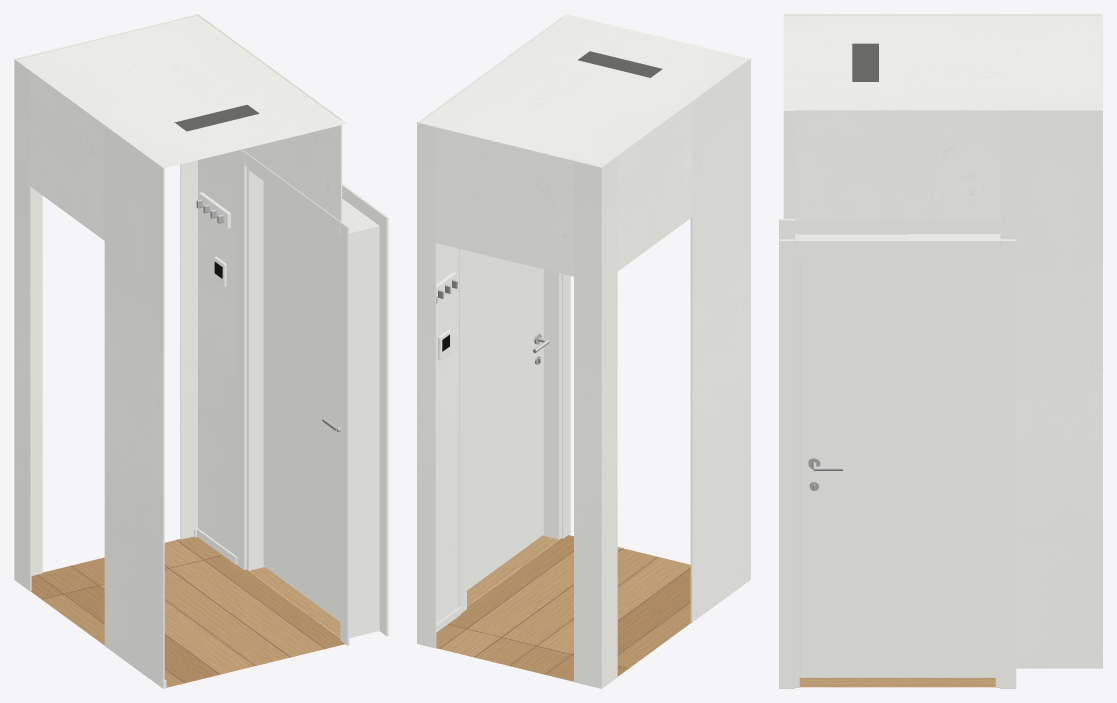
File: katia-disimpegno.glb
The picture shows the model from 3 angles, left to right: view 1: azimuth 30°, elevation 25°; view 2: azimuth 150°, elevation 25°; view 3: azimuth 270°, elevation 25°; orthographic projection. The views are drawn at different scales.
Visible parts, largest first — view 1: Porta ingresso, Disimpegno parete ovest, Disimpegno soffitto, Disimpegno pavimento, Disimpegno parete est fondo, Disimpegno parete ovest fondo, Disimpegno parete ovest porta, Disimpegno parete nord est, Disimpegno parete est porta, Disimpegno parete nord, Disimpegno soglia ingresso, Disimpegno bocchetta; view 2: Porta ingresso, Disimpegno parete ovest, Disimpegno soffitto, Disimpegno pavimento, Disimpegno parete nord porta, Disimpegno parete nord, Disimpegno parete nord est, Disimpegno parete ovest fondo, Disimpegno parete est fondo, Disimpegno parete ovest porta, Disimpegno soglia ingresso, Disimpegno bocchetta; view 3: Porta ingresso, Disimpegno parete est fondo, Disimpegno soffitto, Disimpegno parete est porta, Disimpegno soglia ingresso, Disimpegno parete ovest, Disimpegno bocchetta.
Part boxes in pixels (x1,y1,x2,y2): Porta ingresso: (237, 149, 388, 645); Disimpegno parete ovest: (104, 125, 164, 688); Disimpegno soffitto: (17, 15, 346, 167); Disimpegno pavimento: (30, 536, 344, 687); Disimpegno parete est fondo: (197, 14, 246, 569); Disimpegno parete ovest fondo: (14, 58, 31, 591); Disimpegno parete ovest porta: (30, 70, 105, 240); Disimpegno parete nord est: (180, 14, 197, 539); Disimpegno parete est porta: (245, 49, 342, 221); Disimpegno parete nord: (16, 52, 42, 575); Disimpegno soglia ingresso: (249, 567, 340, 637); Disimpegno bocchetta: (174, 104, 259, 131); Porta ingresso: (459, 248, 570, 613); Disimpegno parete ovest: (690, 58, 750, 622); Disimpegno soffitto: (420, 14, 748, 166); Disimpegno pavimento: (436, 535, 691, 681); Disimpegno parete nord porta: (435, 126, 574, 276); Disimpegno parete nord: (574, 160, 600, 688); Disimpegno parete nord est: (418, 122, 436, 648); Disimpegno parete ovest fondo: (600, 155, 617, 688); Disimpegno parete est fondo: (417, 87, 466, 644); Disimpegno parete ovest porta: (616, 101, 692, 271); Disimpegno soglia ingresso: (467, 535, 558, 606); Disimpegno bocchetta: (578, 51, 662, 77); Porta ingresso: (779, 219, 1016, 688); Disimpegno parete est fondo: (1000, 109, 1102, 668); Disimpegno soffitto: (783, 15, 1100, 110); Disimpegno parete est porta: (795, 109, 1000, 234); Disimpegno soglia ingresso: (799, 678, 995, 687); Disimpegno parete ovest: (783, 14, 908, 234); Disimpegno bocchetta: (852, 43, 878, 81).
Size of the model in its own units: 1.21 by 2.7 by 1.42.
Materials: 27 (22 with a texture image).
